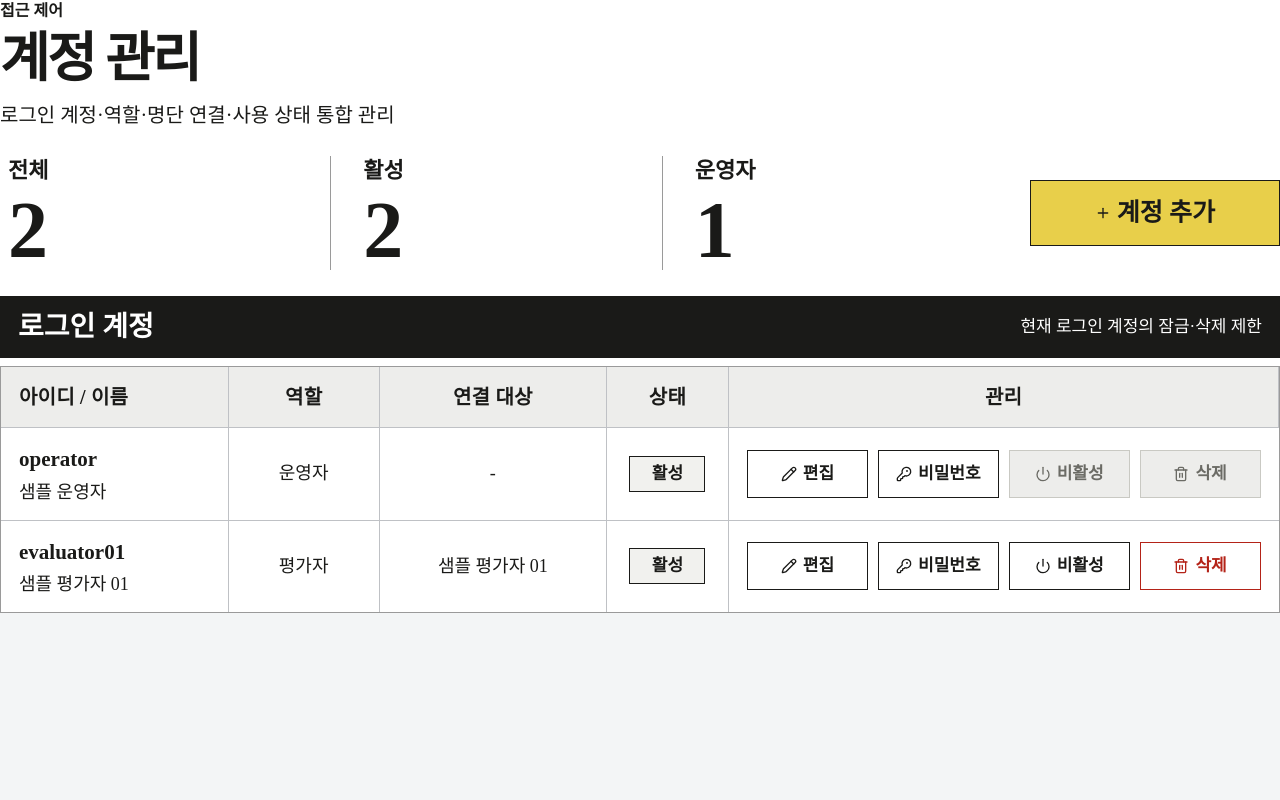
AccountManagementPanel › connects password mismatch errors to the confirmation field
Click the button with aria-label "샘플 평가자 01 비밀번호 재설정" at x=938, y=566, box [878,542,999,590]
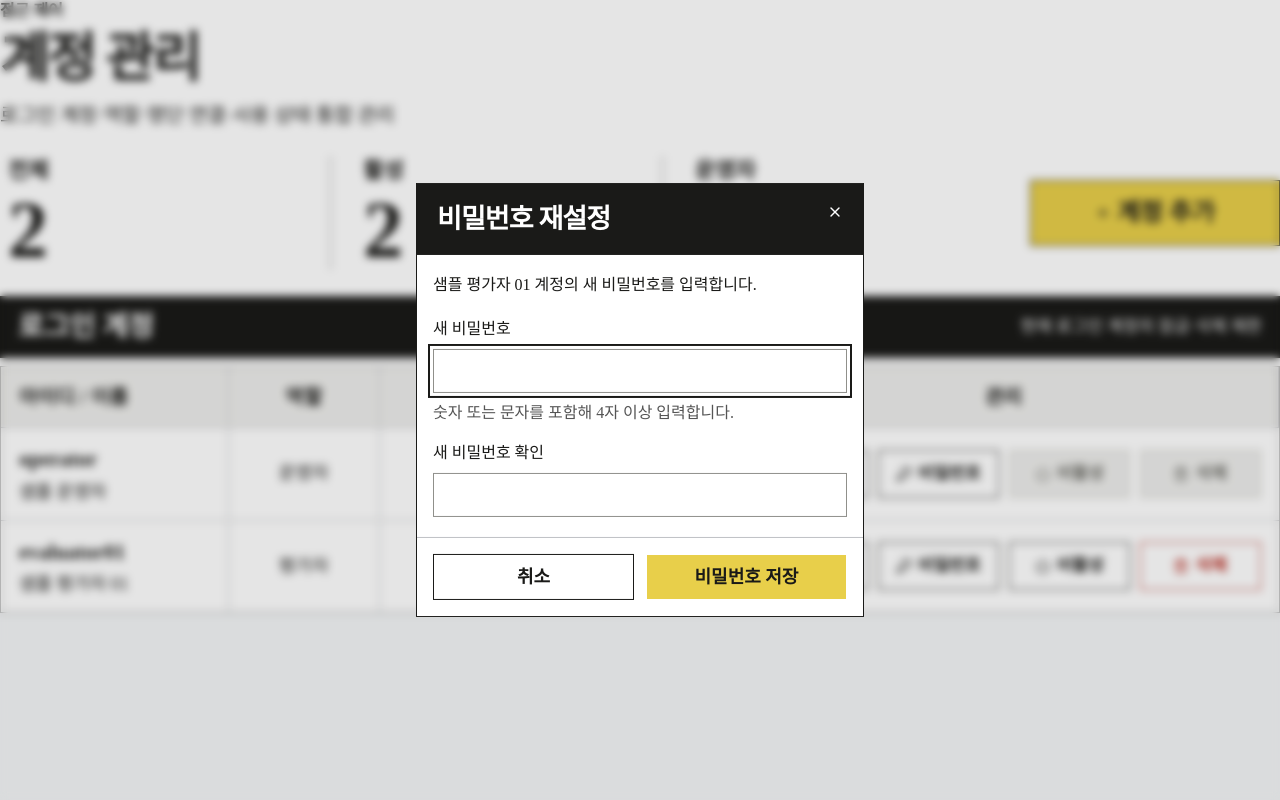
Type "Evaluate!2026" into the password field labelled "새 비밀번호" at x=640, y=371, box [433,349,847,393]
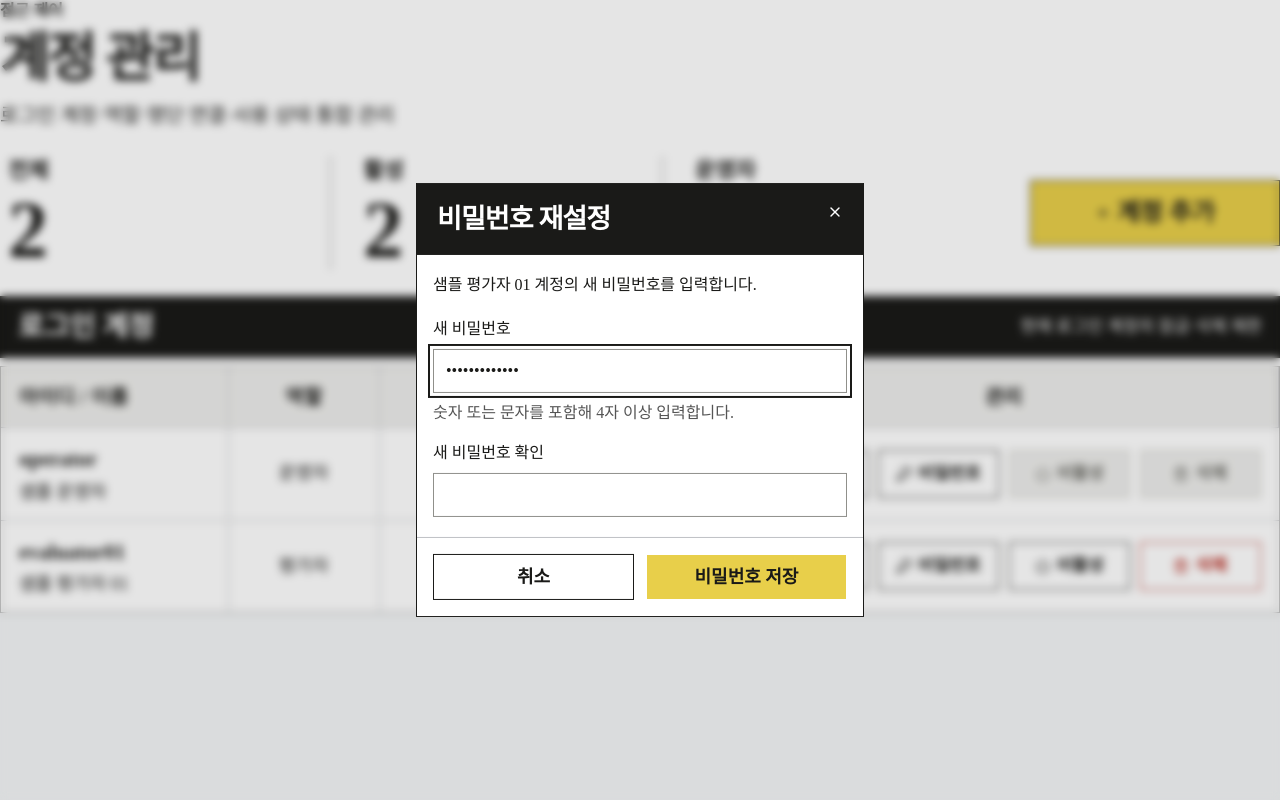
Type "Different!2026" into the password field labelled "새 비밀번호 확인" at x=640, y=495, box [433,473,847,517]
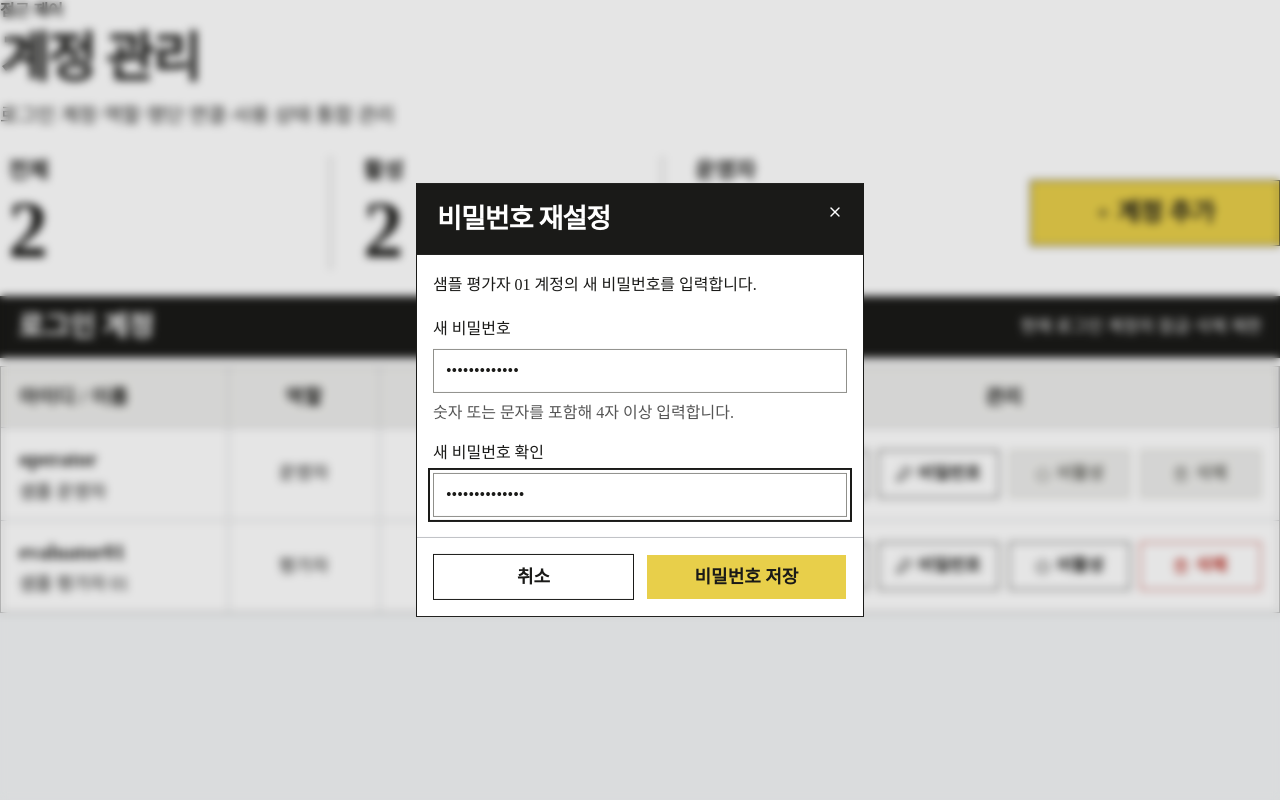
Click the button "비밀번호 저장" at x=746, y=577, box [646,554,847,600]
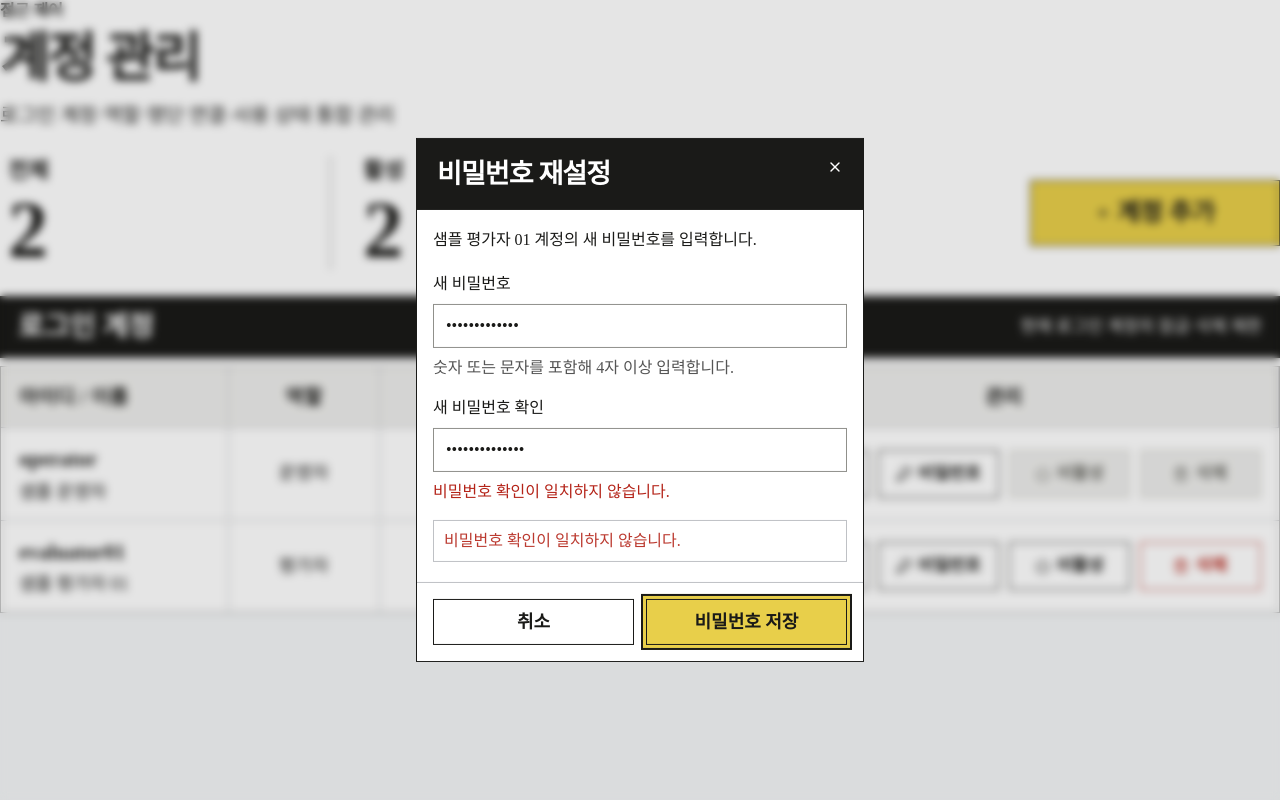
Expected: the text with test id "reset-password-confirmation-error" reads "비밀번호 확인이 일치하지 않습니다.", [433,483,670,500]
